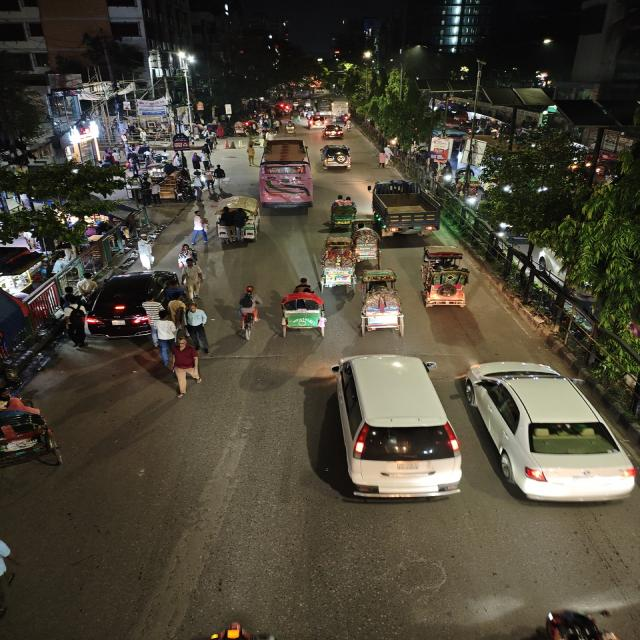bicycle: (232, 284, 262, 340)
bus: (256, 135, 316, 213), (313, 98, 336, 116)
car: (452, 356, 640, 508), (318, 350, 463, 506), (81, 267, 176, 341), (317, 140, 353, 174), (321, 124, 345, 139), (307, 115, 323, 129)
cng: (290, 110, 301, 122)
human_hauler: (214, 196, 258, 248)
pedestrian: (160, 342, 209, 398), (147, 312, 185, 366), (184, 298, 210, 352), (181, 258, 207, 300), (188, 209, 210, 247), (178, 242, 198, 266), (375, 148, 392, 170), (212, 163, 228, 186), (244, 143, 258, 166)
pickup_van: (368, 177, 443, 239)
rickshaw: (0, 391, 70, 475), (413, 242, 476, 314), (354, 272, 411, 338), (275, 278, 331, 340), (316, 240, 357, 292), (350, 224, 382, 261), (329, 194, 357, 228), (282, 122, 296, 134)
truck: (330, 102, 353, 121)
